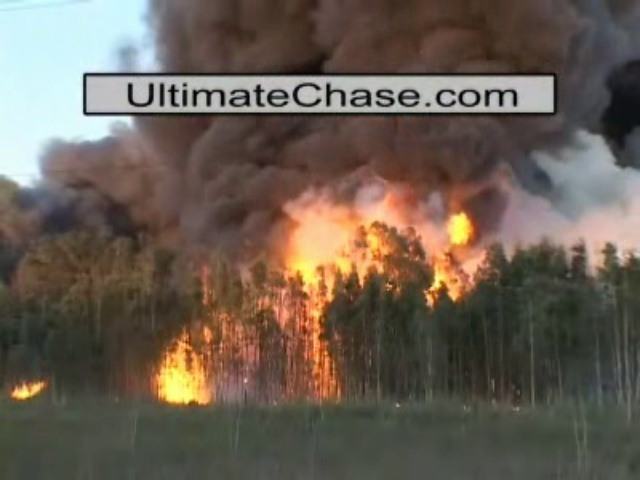fire: (265, 182, 499, 305), (152, 343, 218, 404)
